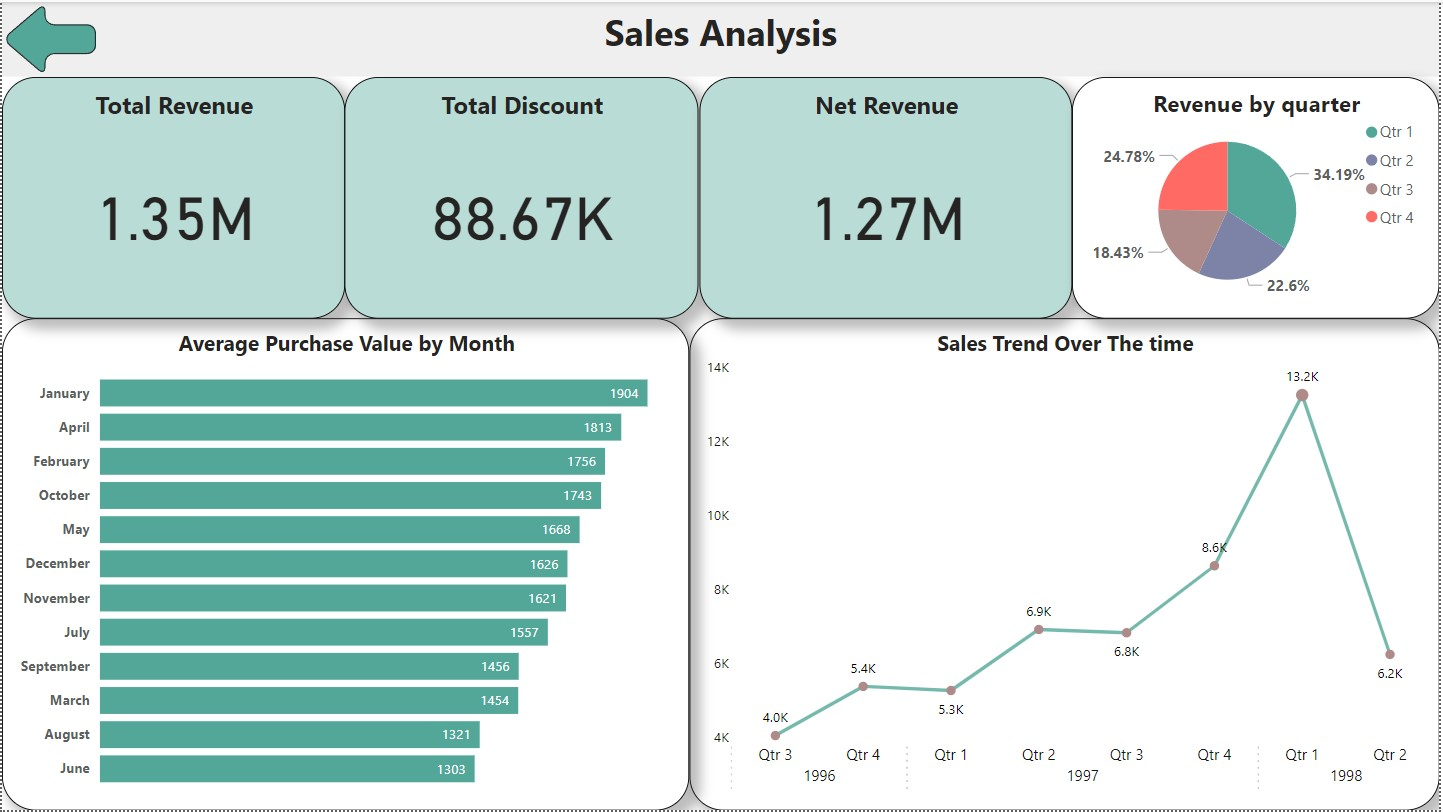

Layout of this report page (visuals, bound fields, positions):
{"tool":"powerbi","page":{"name":"sales","canvas":[1280,720],"ordinal":2},"visuals":[{"type":"lineChart","title":"Sales Trend Over The time","fields":{"Category":["Orders.OrderDate.Variation.Date Hierarchy.Year","Orders.OrderDate.Variation.Date Hierarchy.Quarter","Orders.OrderDate.Variation.Date Hierarchy.Month"],"Y":["Sum(OrdersDetails.UnitPrice)"]},"box":[612.2,281.6,667.9,438.6],"z":0},{"type":"barChart","fields":{"Y":["Categories.Average Purchase Value"],"Category":["Orders.OrderDate.Variation.Date Hierarchy.Month"]},"box":[0,281.6,612.2,438.6],"z":1000},{"type":"card","title":"Total Revenue","fields":{"Values":["Sum(OrdersDetails.total Revenue per Order)"]},"box":[0,66.4,305.5,214.9],"z":2000},{"type":"card","title":"Total Discount","fields":{"Values":["Sum(OrdersDetails.total discount)"]},"box":[305.5,66.4,315.2,214.9],"z":3000},{"type":"card","title":"Net Revenue","fields":{"Values":["Sum(OrdersDetails.total Revenue after discount)"]},"box":[620.7,66.4,332.1,214.9],"z":4000},{"type":"textbox","box":[0,0,1280,66.4],"z":5000},{"type":"shape","box":[0,0,83.8,66.2],"z":6000},{"type":"pieChart","title":"Revenue by quarter","fields":{"Category":["Orders.OrderDate.Variation.Date Hierarchy.Quarter"],"Y":["Sum(OrdersDetails.total Revenue per Order)"]},"box":[952.8,66.4,327.2,214.9],"z":7000}]}

Visuals, with their boxes in screenshot pixels (x1, y1, x2, y2), scaled from the page's 1280x720 canvas onto the 1443x812 screenshot:
"Sales Trend Over The time" lineChart: box=[690, 318, 1442, 811]
barChart - Categories.Average Purchase Value x Orders.OrderDate.Variation.Date Hierarchy.Month: box=[0, 318, 690, 811]
"Total Revenue" card: box=[0, 75, 344, 317]
"Total Discount" card: box=[344, 75, 700, 317]
"Net Revenue" card: box=[700, 75, 1074, 317]
textbox: box=[0, 0, 1442, 75]
shape: box=[0, 0, 94, 75]
"Revenue by quarter" pieChart: box=[1074, 75, 1442, 317]
